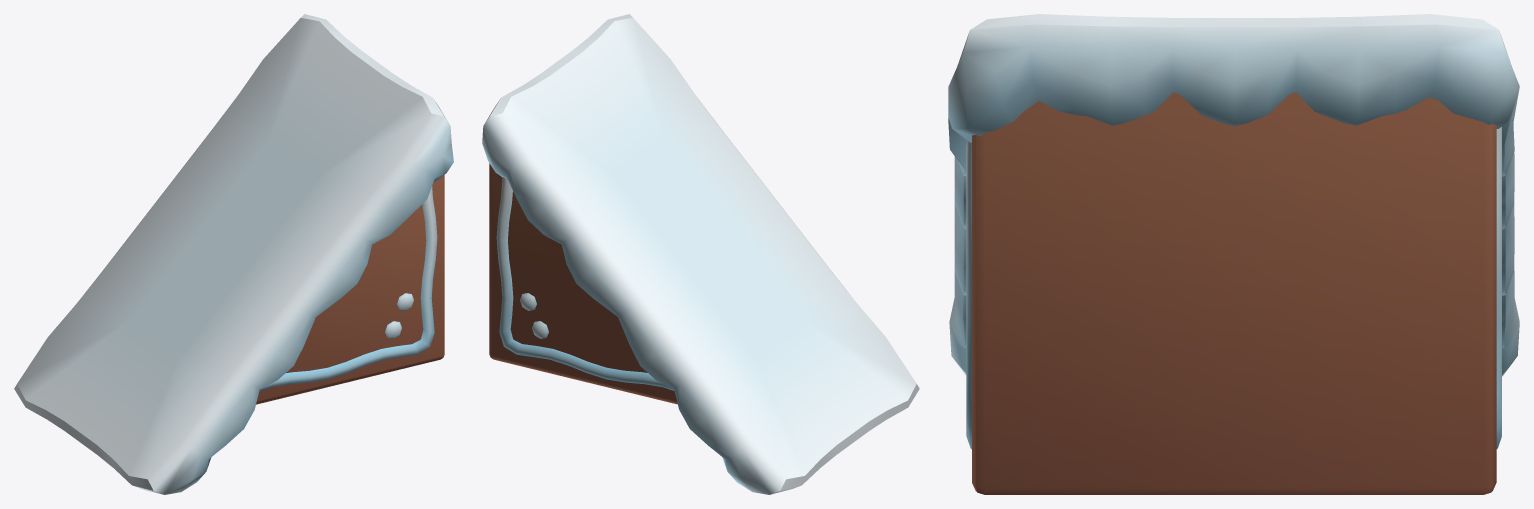
The model's file is roof_gingerbread_left.obj.
3 renders of one model, left to right at view 1: azimuth 30°, elevation 25°; view 2: azimuth 150°, elevation 25°; view 3: azimuth 270°, elevation 25°, orthographic. The views are drawn at different scales.
Visible parts, largest first — view 1: roof_gingerbread_left; view 2: roof_gingerbread_left; view 3: roof_gingerbread_left.
Boxes of the visible parts, bbox=[...] form: roof_gingerbread_left: bbox=[14, 14, 453, 494]; roof_gingerbread_left: bbox=[482, 14, 919, 494]; roof_gingerbread_left: bbox=[948, 14, 1519, 494].
Bounding box in the file's own units: 5.15 × 5.15 × 4.36.
Materials: 1 (1 with a texture image).
